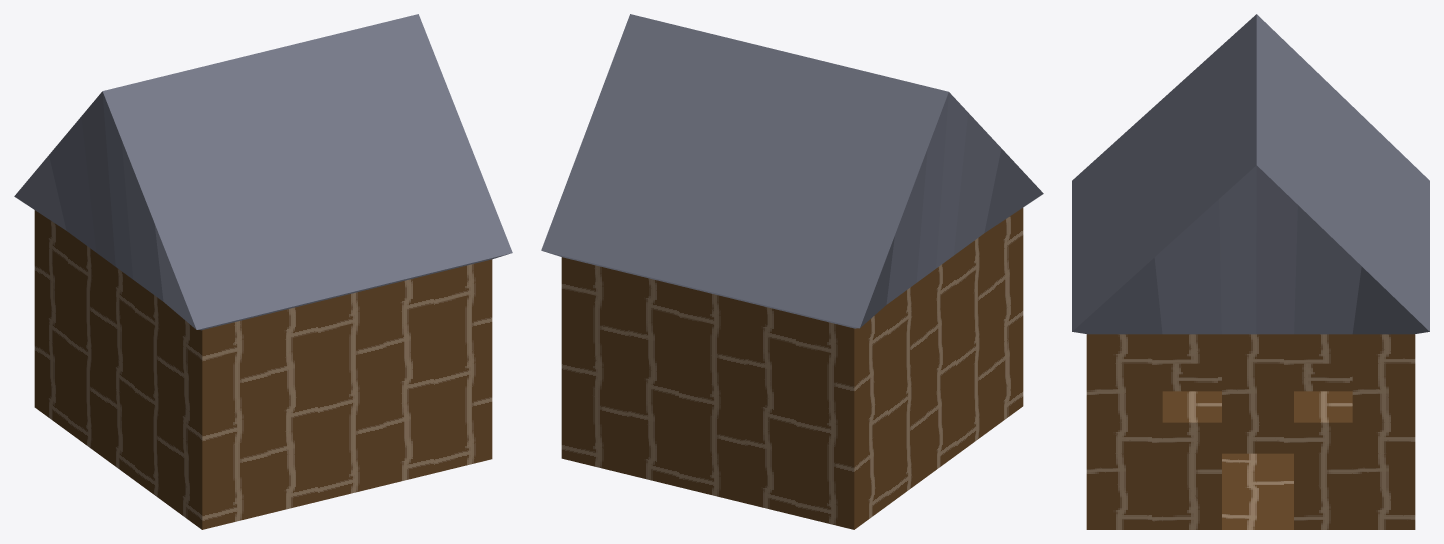
Rendered from House.glb.
3 renders of one model, left to right at view 1: azimuth 30°, elevation 25°; view 2: azimuth 150°, elevation 25°; view 3: azimuth 270°, elevation 25°, orthographic. The views are drawn at different scales.
Visible parts, largest first — view 1: Cube; view 2: Cube; view 3: Cube.
Boxes of the visible parts, x1=… form: Cube: x1=14, y1=14, x2=512, y2=529; Cube: x1=541, y1=14, x2=1043, y2=529; Cube: x1=1072, y1=14, x2=1429, y2=529.
Bounding box in the file's own units: 2.18 × 2.49 × 2.18.
2 materials, 1 textured.
